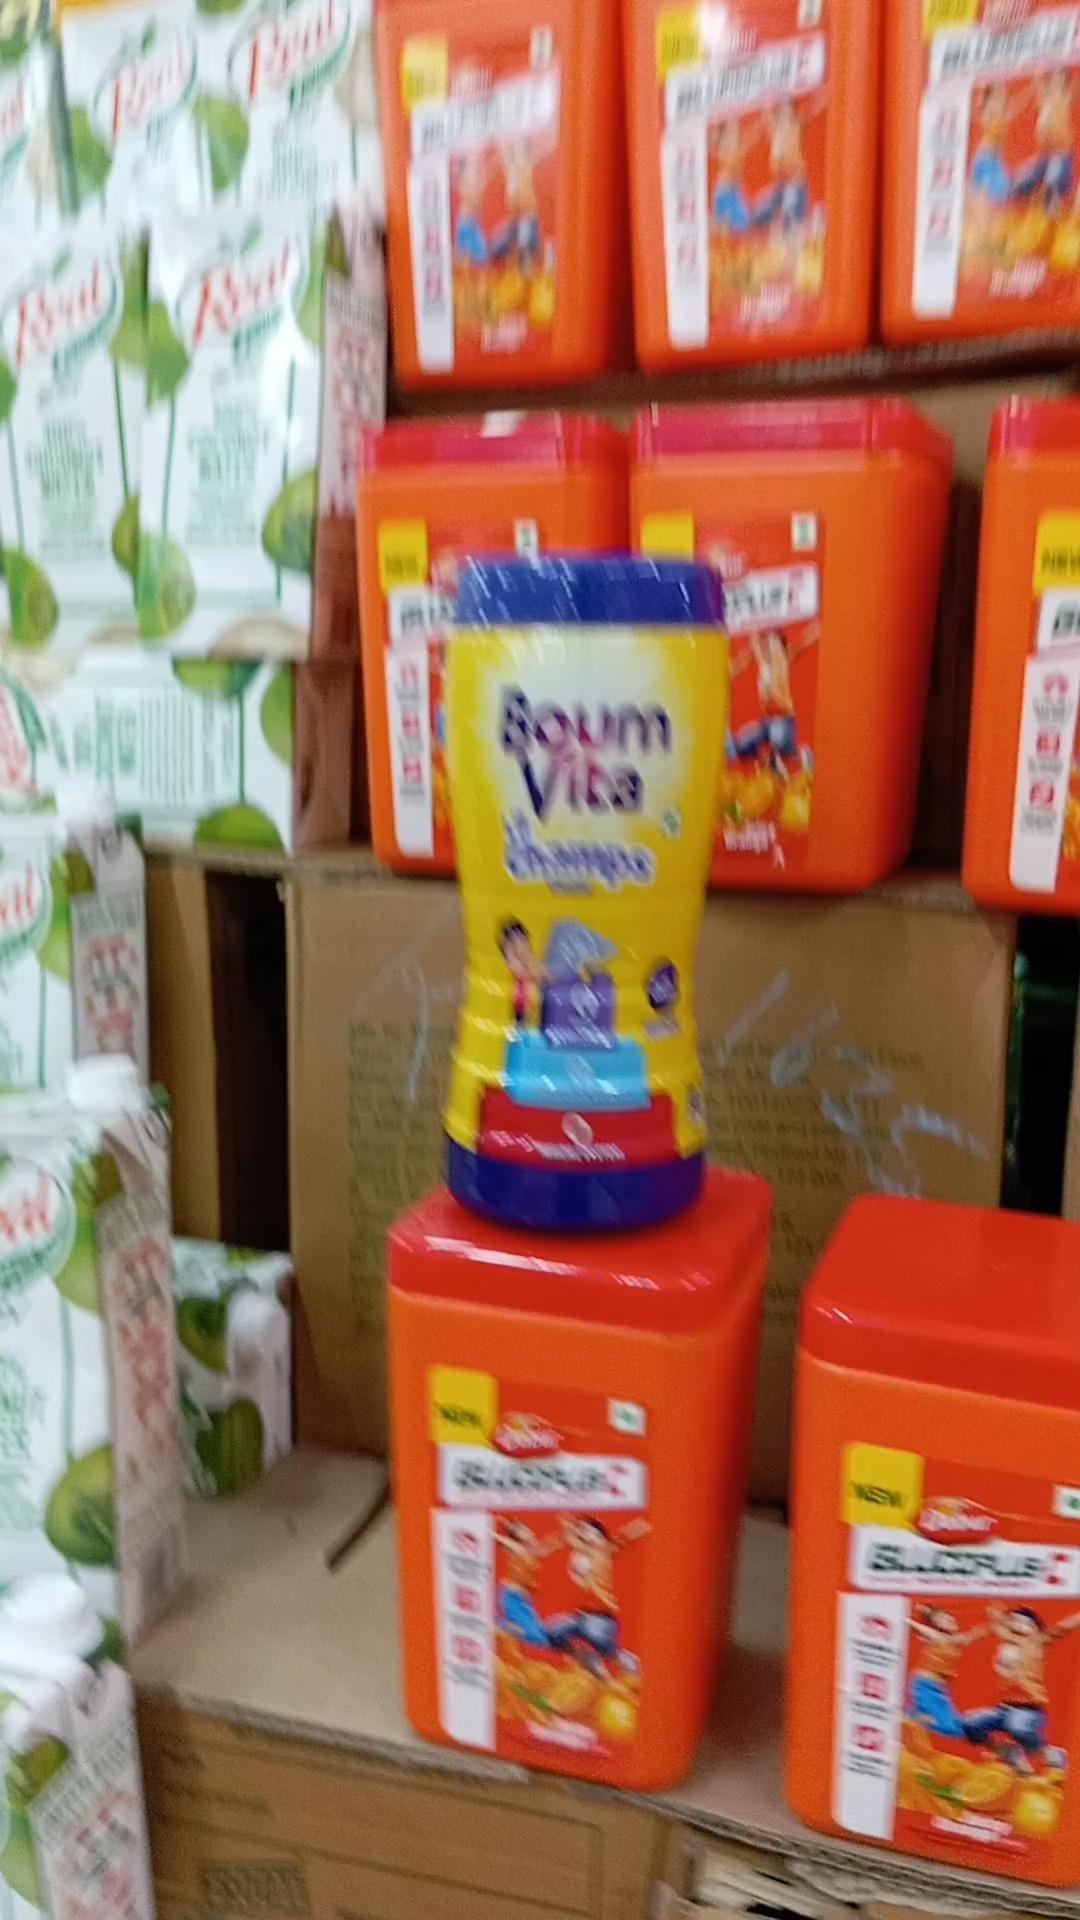BOURN_VITA_CHAMPS_500_G_JAR: (440, 554, 717, 1237)
